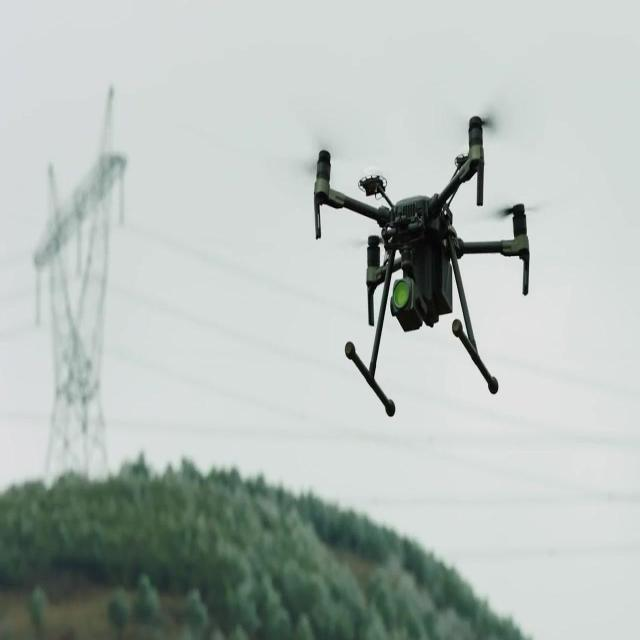drone: (312, 109, 540, 422)
